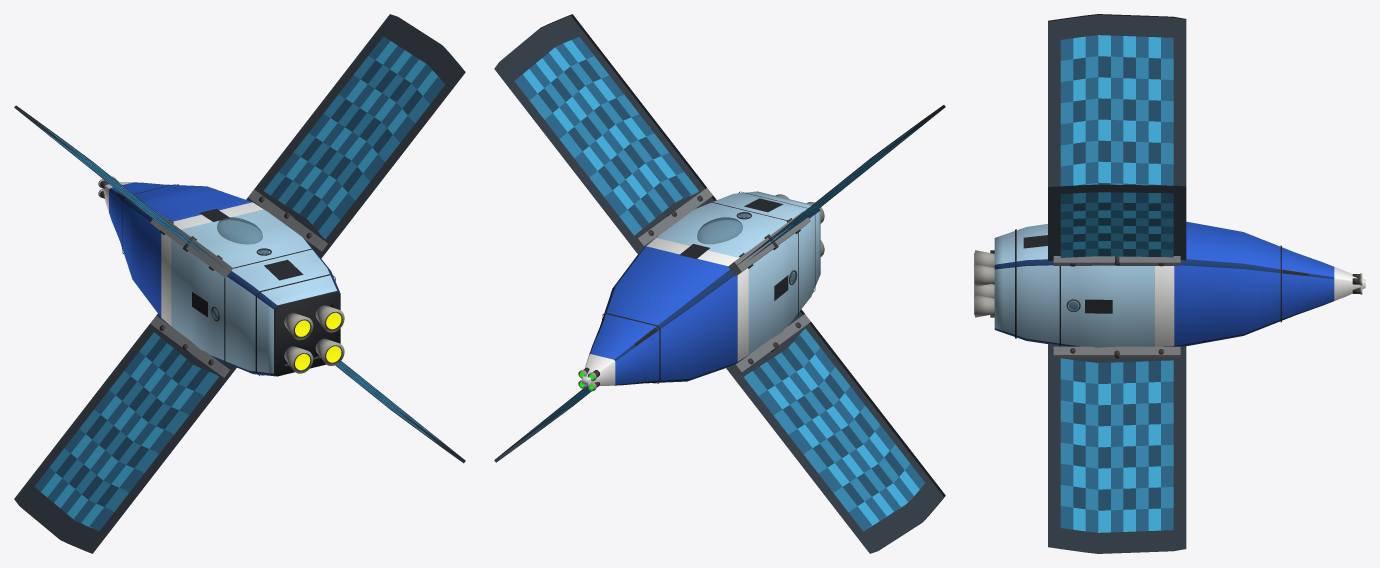
The model's file is Ship_Crosspanel_3.glb.
3 views of the same model, side by side, from view 1: azimuth 30°, elevation 25°; view 2: azimuth 150°, elevation 25°; view 3: azimuth 270°, elevation 25° (orthographic). The views are drawn at different scales.
Visible parts, largest first — view 1: Fuselage_SquareBody, SolarPanelWing_LowerLeftRidge_RectangularPhotovoltaicGrid, SolarPanelWing_TopRightRidge_RectangularPhotovoltaicGrid, SolarPanelWing_TopLeftRidge_RectangularPhotovoltaicGrid, SolarPanelWing_LowerRightRidge_RectangularPhotovoltaicGrid, SolarPanelWing_TopLeftRidge_RootHingeClamp, Canopy_DorsalLowSquareBubble, SolarPanelWing_TopRightRidge_RootHingeClamp, SolarPanelWing_LowerLeftRidge_RootHingeClamp, Nose_SquareTaperedForwardSection, EngineEmitter; view 2: Fuselage_SquareBody, SolarPanelWing_LowerLeftRidge_RectangularPhotovoltaicGrid, SolarPanelWing_TopRightRidge_RectangularPhotovoltaicGrid, Nose_SquareTaperedForwardSection, SolarPanelWing_TopLeftRidge_RectangularPhotovoltaicGrid, SolarPanelWing_TopLeftRidge_RootHingeClamp, Canopy_DorsalLowSquareBubble, SolarPanelWing_LowerLeftRidge_RootHingeClamp, SolarPanelWing_TopRightRidge_RootHingeClamp, SolarPanelWing_LowerRightRidge_RectangularPhotovoltaicGrid; view 3: SolarPanelWing_LowerRightRidge_RectangularPhotovoltaicGrid, Fuselage_SquareBody, SolarPanelWing_TopLeftRidge_RectangularPhotovoltaicGrid, SolarPanelWing_TopRightRidge_RectangularPhotovoltaicGrid, Nose_SquareTaperedForwardSection, SolarPanelWing_LowerRightRidge_RootHingeClamp, SolarPanelWing_TopRightRidge_RootHingeClamp.
Boxes of the visible parts, x1,y1,x2,y2 form: Fuselage_SquareBody: (119, 184, 340, 376); SolarPanelWing_LowerLeftRidge_RectangularPhotovoltaicGrid: (14, 314, 236, 553); SolarPanelWing_TopRightRidge_RectangularPhotovoltaicGrid: (246, 14, 465, 258); SolarPanelWing_TopLeftRidge_RectangularPhotovoltaicGrid: (14, 105, 232, 273); SolarPanelWing_LowerRightRidge_RectangularPhotovoltaicGrid: (335, 361, 465, 463); SolarPanelWing_TopLeftRidge_RootHingeClamp: (150, 213, 232, 277); Canopy_DorsalLowSquareBubble: (217, 217, 262, 244); SolarPanelWing_TopRightRidge_RootHingeClamp: (248, 189, 327, 251); SolarPanelWing_LowerLeftRidge_RootHingeClamp: (150, 315, 229, 377); Nose_SquareTaperedForwardSection: (102, 182, 163, 239); EngineEmitter: (295, 313, 341, 370); Fuselage_SquareBody: (600, 191, 820, 383); SolarPanelWing_LowerLeftRidge_RectangularPhotovoltaicGrid: (726, 309, 945, 553); SolarPanelWing_TopRightRidge_RectangularPhotovoltaicGrid: (494, 14, 716, 254); Nose_SquareTaperedForwardSection: (582, 325, 646, 385); SolarPanelWing_TopLeftRidge_RectangularPhotovoltaicGrid: (729, 105, 945, 271); SolarPanelWing_TopLeftRidge_RootHingeClamp: (728, 211, 810, 276); Canopy_DorsalLowSquareBubble: (697, 217, 742, 244); SolarPanelWing_LowerLeftRidge_RootHingeClamp: (731, 314, 810, 375); SolarPanelWing_TopRightRidge_RootHingeClamp: (633, 188, 712, 249); SolarPanelWing_LowerRightRidge_RectangularPhotovoltaicGrid: (494, 386, 591, 462); SolarPanelWing_LowerRightRidge_RectangularPhotovoltaicGrid: (1048, 343, 1186, 553); Fuselage_SquareBody: (994, 221, 1295, 347); SolarPanelWing_TopLeftRidge_RectangularPhotovoltaicGrid: (1048, 14, 1186, 186); SolarPanelWing_TopRightRidge_RectangularPhotovoltaicGrid: (1048, 184, 1186, 261); Nose_SquareTaperedForwardSection: (1295, 253, 1365, 314); SolarPanelWing_LowerRightRidge_RootHingeClamp: (1053, 346, 1180, 357); SolarPanelWing_TopRightRidge_RootHingeClamp: (1053, 256, 1180, 265).
Bounding box in the file's own units: 7.15 × 7.15 × 6.87.
